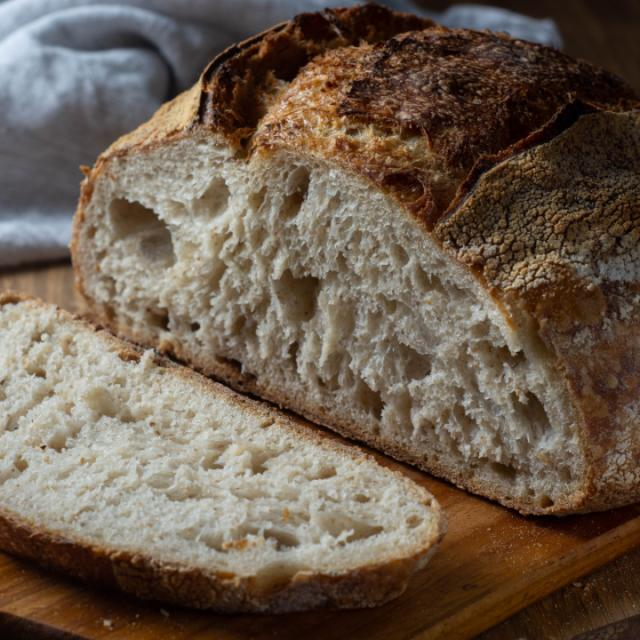Maltese-Bread: (72, 5, 639, 514)
